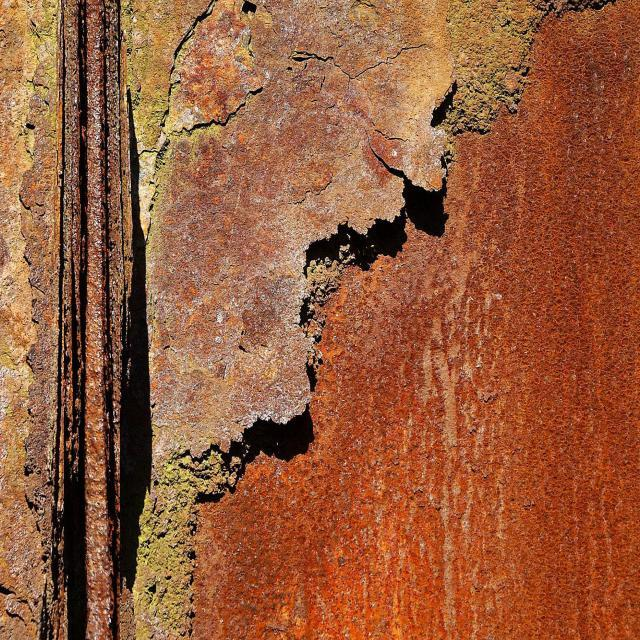Corrosion: (194, 0, 640, 640)
